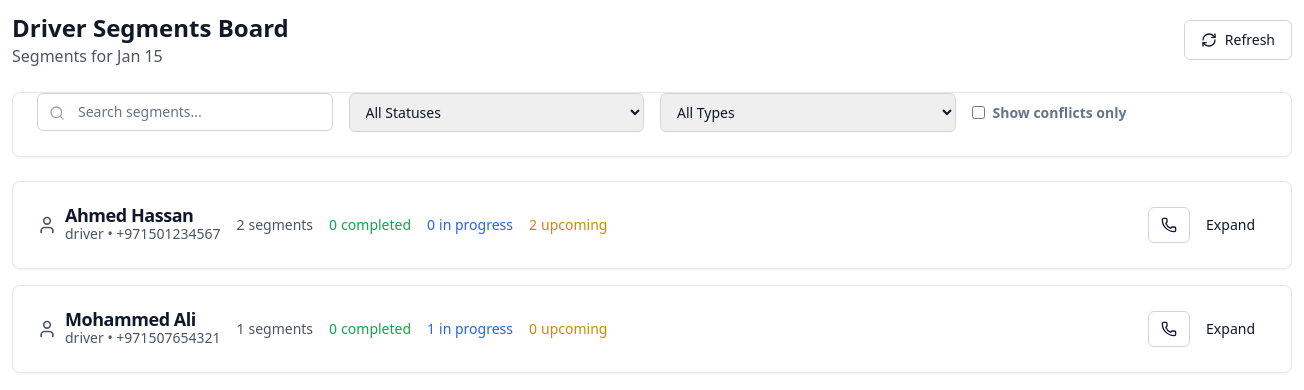
Test case: DriverSegmentsBoard › filters segments by status
Select "In Progress" in the dropdown showing "All Statuses" at (496, 112), box [348,93,644,132]
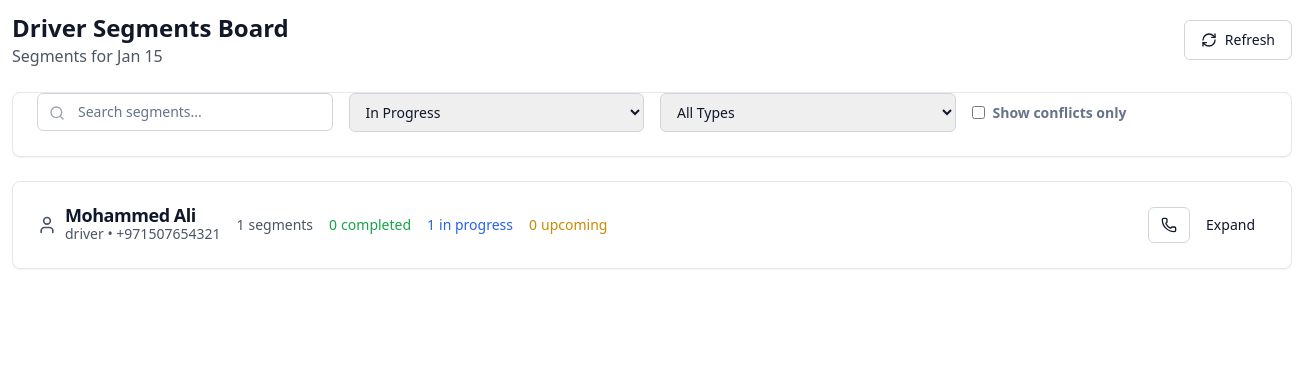
Check: the heading "Mohammed Ali" is shown, box [65,203,196,227]
Check: the heading "Ahmed Hassan" is gone
